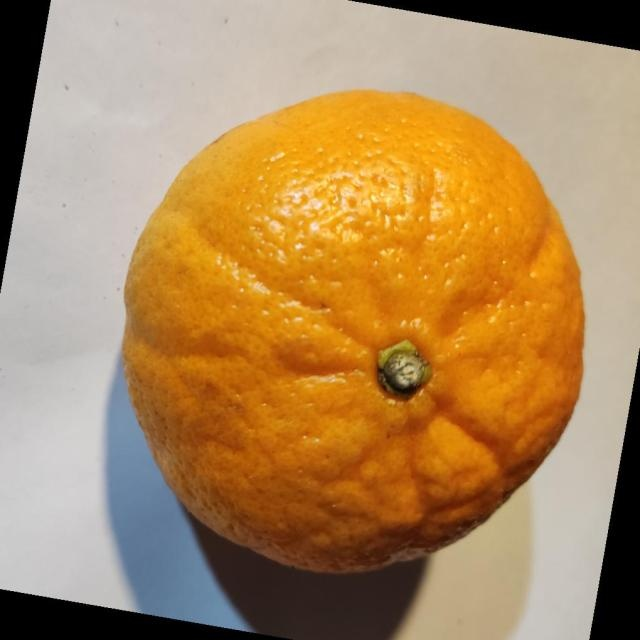agrume: (120, 88, 586, 576)
